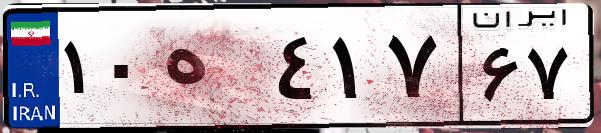0: (110, 28, 158, 98)
1: (330, 28, 385, 110), (57, 26, 110, 100)
4: (270, 28, 330, 110)
6: (475, 38, 525, 113)
7: (385, 28, 445, 110), (525, 38, 570, 115)
ه: (158, 20, 270, 120)
